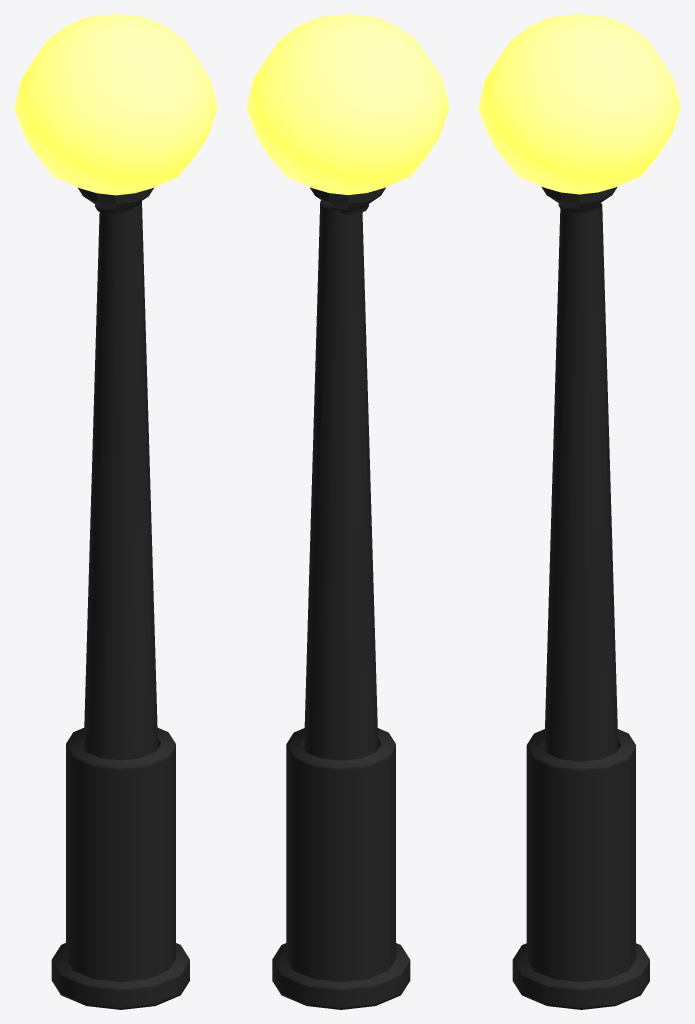
The model's file is Lampu.fbx.
3 views of the same model, side by side, from view 1: azimuth 30°, elevation 25°; view 2: azimuth 150°, elevation 25°; view 3: azimuth 270°, elevation 25° (orthographic).
Visible parts, largest first — view 1: Tiang, Tiang Penyangga, Lampu; view 2: Tiang, Tiang Penyangga, Lampu; view 3: Tiang, Tiang Penyangga, Lampu.
Boxes of the visible parts, left/top/right/bottom form: Tiang: left=83, top=201, right=157, bottom=760; Tiang Penyangga: left=51, top=728, right=189, bottom=1009; Lampu: left=14, top=14, right=217, bottom=215; Tiang: left=304, top=200, right=378, bottom=760; Tiang Penyangga: left=272, top=728, right=410, bottom=1009; Lampu: left=246, top=14, right=449, bottom=215; Tiang: left=544, top=203, right=618, bottom=761; Tiang Penyangga: left=512, top=729, right=649, bottom=1009; Lampu: left=478, top=14, right=680, bottom=213.
Size of the model in its own units: 38.29 by 199 by 38.29.
